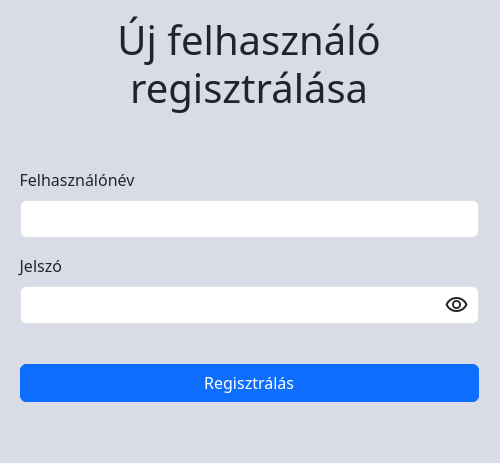
Register › shows error message on failed register
The width and height of the screenshot is (500, 463).
Step 1. Type "test" into the field with id "username" → coordinates (250, 219), box [20,200,479,238]
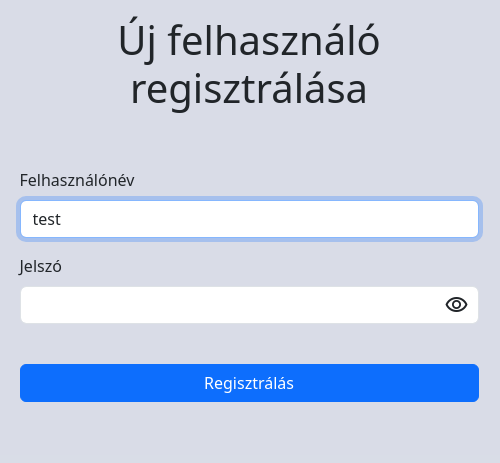
Step 2. Type "test" into the password field labelled "Jelszó" → coordinates (250, 305), box [20,286,479,324]
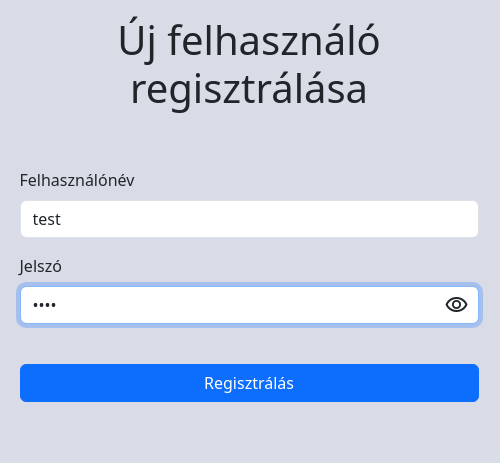
Step 3. Click the submit button → coordinates (250, 383), box [20,364,479,402]
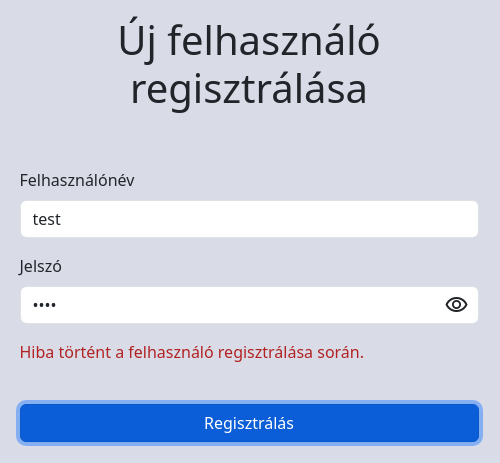
Result: the text "Hiba történt a felhasználó regisztrálása során." is shown at [20,341,364,363]
